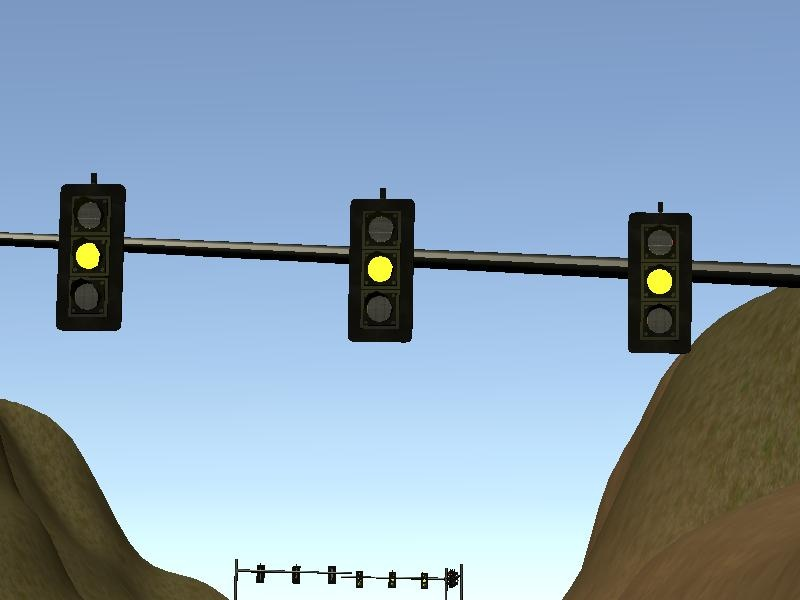yellow: (47, 166, 132, 340), (340, 178, 421, 353), (620, 199, 700, 362)
